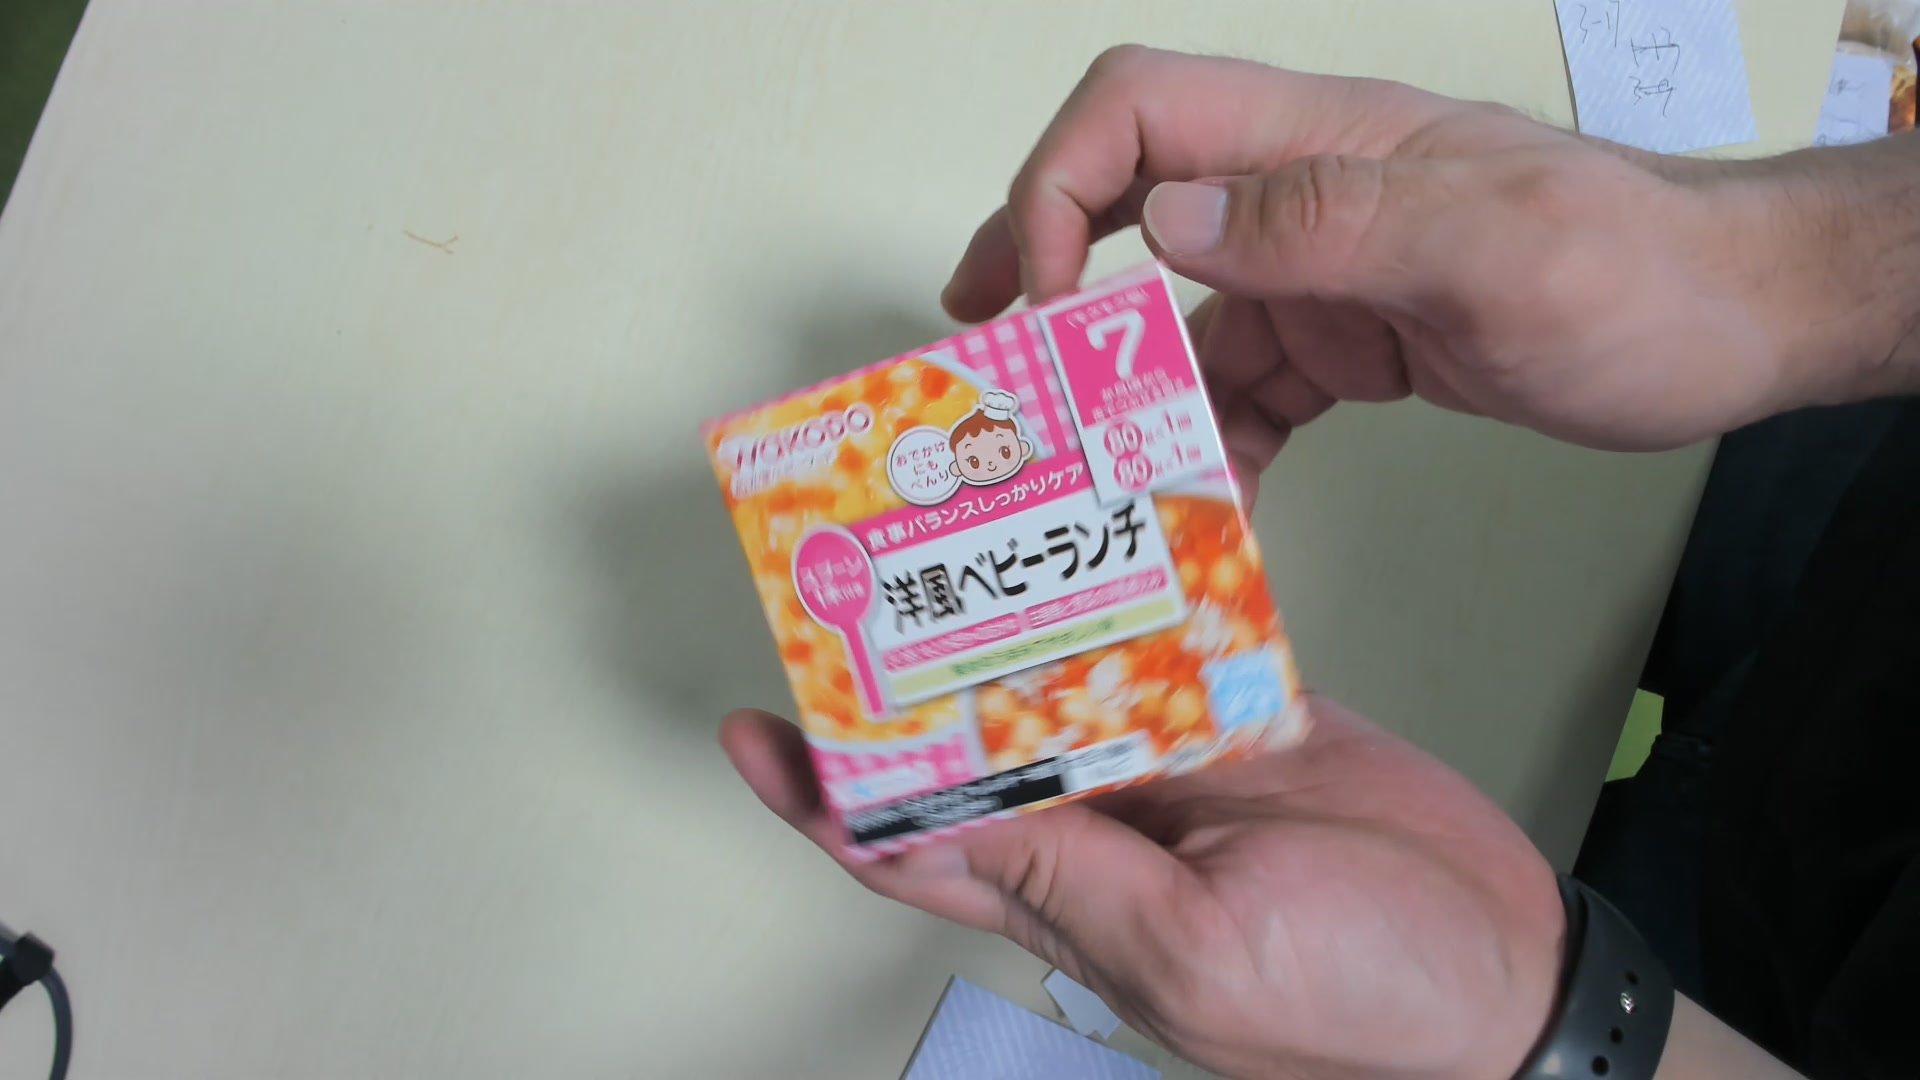InstantMeals_0-99g_NonHalal_NonHealthy: (703, 255, 1309, 873)
